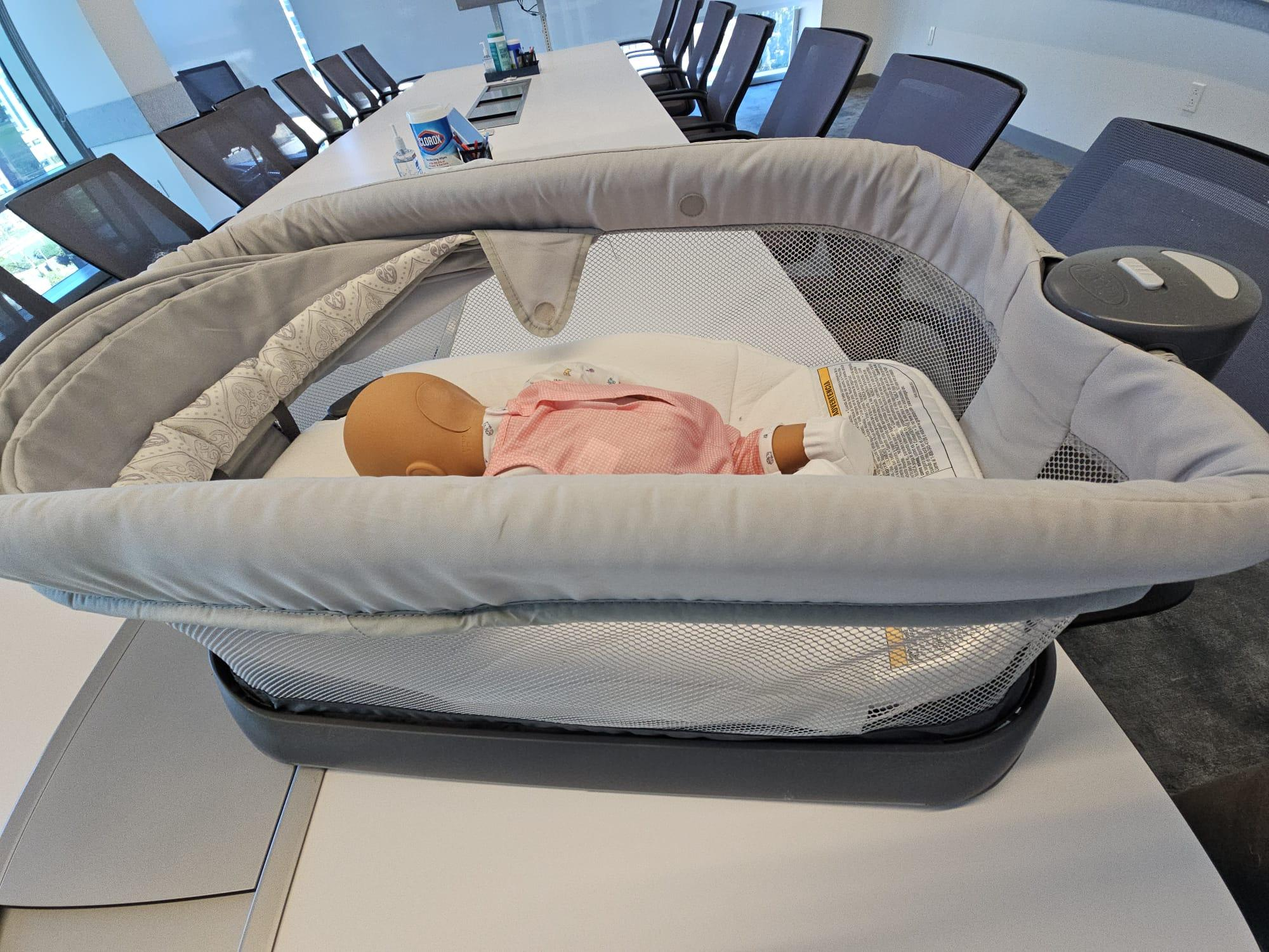baby: (334, 338, 888, 499)
